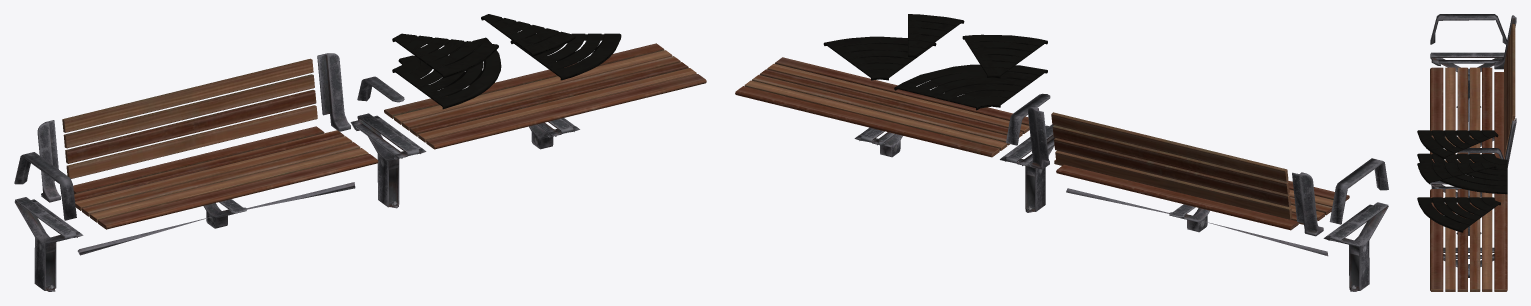
The model's file is modular_street_seating.gltf.
3 views of the same model, side by side, from view 1: azimuth 30°, elevation 25°; view 2: azimuth 150°, elevation 25°; view 3: azimuth 270°, elevation 25° (orthographic). The views are drawn at different scales.
Visible parts, largest first — view 1: seat_back, seat, seat_bench, connector_90, legs_double, connector_45, legs_single, connector_60, connector_30, back_support_l, arm_rest_01, back_support_r (+4 smaller); view 2: seat_bench, seat_back, connector_90, seat, connector_60, legs_single, connector_45, legs_double, connector_30, arm_rest_01, back_support_r, back_support_l (+4 smaller); view 3: seat_bench, seat, connector_90, connector_60, connector_45, seat_back, connector_30, legs_single, arm_rest_01, back_support_r, legs_double, back_support_l (+3 smaller).
Boxes of the visible parts, x1,y1,x2,y2 form: seat_back: (62,58,317,178); seat: (73,126,378,229); seat_bench: (384,43,706,149); connector_90: (392,37,501,109); legs_double: (350,113,426,208); connector_45: (392,33,498,78); legs_single: (14,197,83,291); connector_60: (510,33,621,80); connector_30: (481,14,575,56); back_support_l: (317,53,350,131); arm_rest_01: (14,152,76,220); back_support_r: (37,120,60,202); seat_bench: (735,57,1029,157); seat_back: (1051,112,1292,219); connector_90: (894,64,1047,110); seat: (1054,160,1349,230); connector_60: (823,36,936,80); legs_single: (1323,202,1388,291); connector_45: (962,34,1047,78); legs_double: (1000,124,1055,212); connector_30: (908,14,964,57); arm_rest_01: (1329,158,1388,224); back_support_r: (1292,172,1323,236); back_support_l: (1028,107,1049,169); seat_bench: (1430,189,1507,291); seat: (1430,67,1504,162); connector_90: (1417,153,1507,194); connector_60: (1417,197,1500,232); connector_45: (1417,130,1498,159); seat_back: (1504,24,1515,157); connector_30: (1417,163,1496,184); legs_single: (1430,52,1504,107); arm_rest_01: (1430,14,1506,44); back_support_r: (1494,15,1516,69); legs_double: (1431,180,1481,235); back_support_l: (1504,118,1516,167).
Size of the model in its own units: 4.34 by 0.95 by 0.7704.
Materials: 5 (5 with a texture image).
